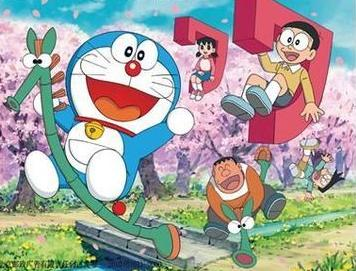Doraemon: (35, 13, 190, 206)
